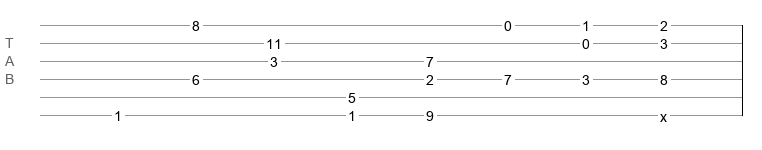0: (504, 18, 512, 28), (582, 36, 590, 46)
1: (114, 108, 122, 118), (348, 108, 356, 118), (582, 18, 590, 28)
11: (266, 36, 282, 46)
2: (426, 72, 434, 82), (660, 18, 668, 28)
3: (270, 54, 278, 64), (582, 72, 590, 82), (660, 36, 668, 46)
5: (348, 90, 356, 100)
6: (192, 72, 200, 82)
7: (426, 54, 434, 64), (504, 72, 512, 82)
8: (192, 18, 200, 28), (660, 72, 668, 82)
9: (426, 108, 434, 118)
x: (660, 109, 667, 117)
